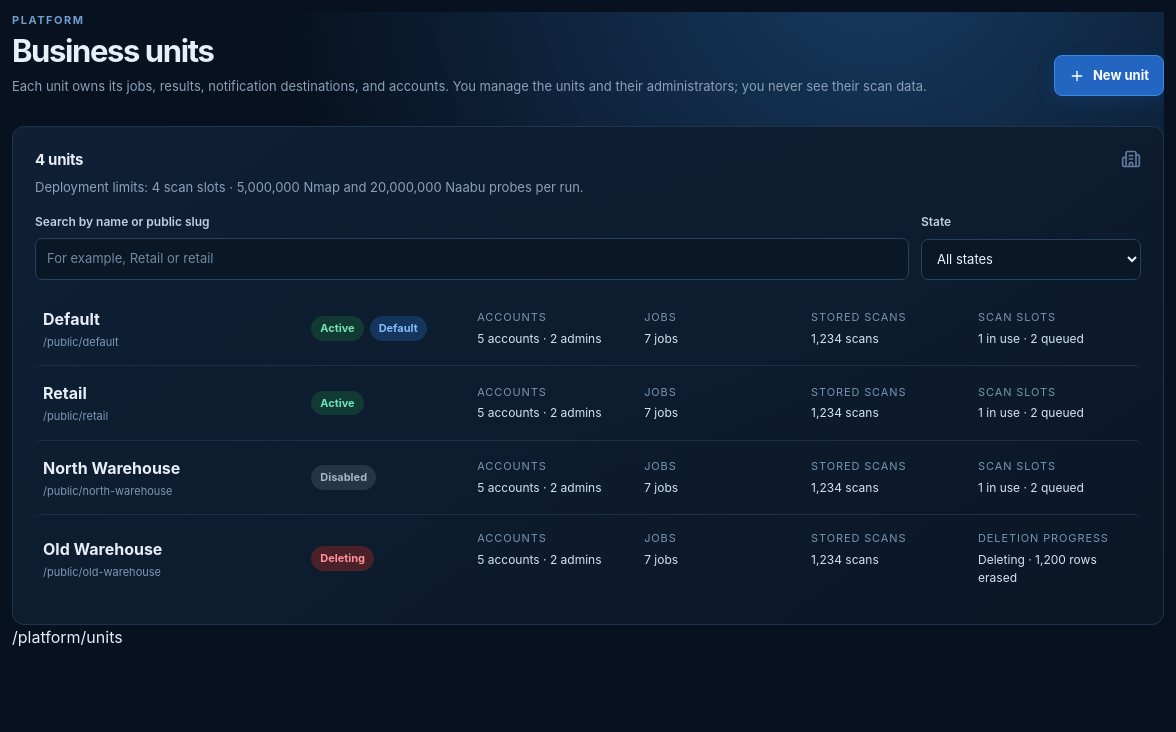
Test: business unit list › filters units by name or slug and by lifecycle state
The width and height of the screenshot is (1176, 732).
Type "NORTH-WAREHOUSE" into the search field labelled "Search by name or public slug" at (472, 259), box [35,238,909,280]
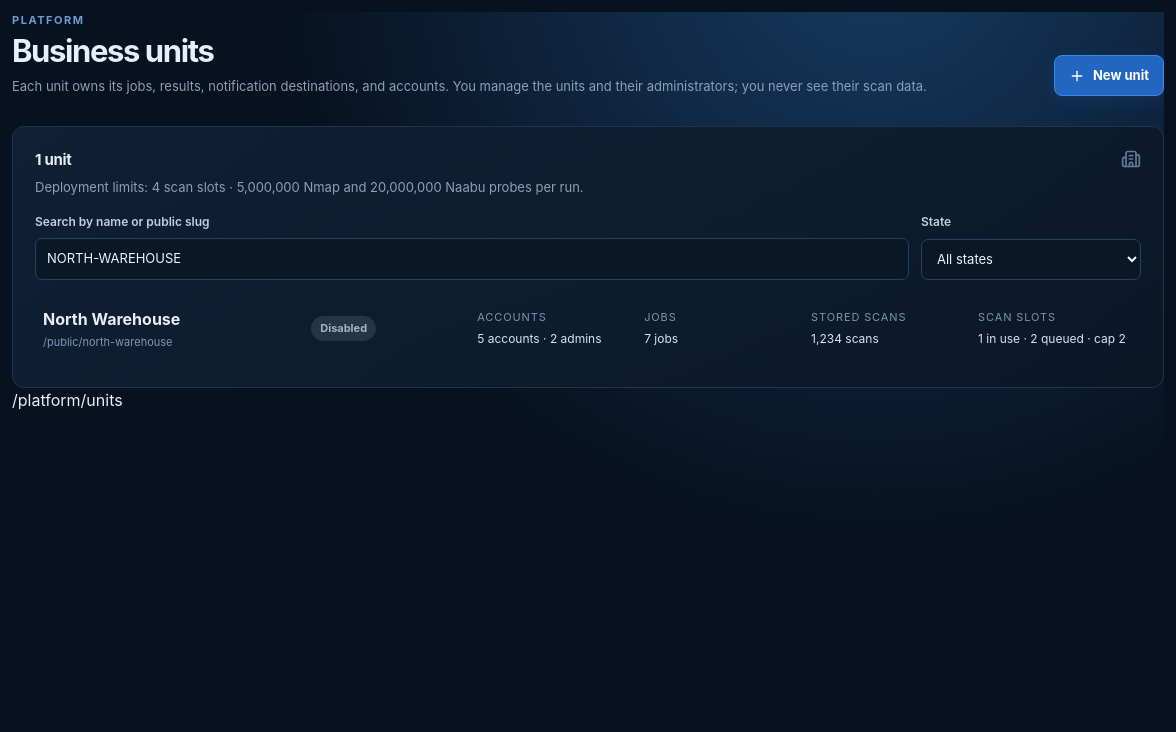
Result: the link "Retail" is gone
Clear the search field labelled "Search by name or public slug" at (472, 259), box [35,238,909,280]
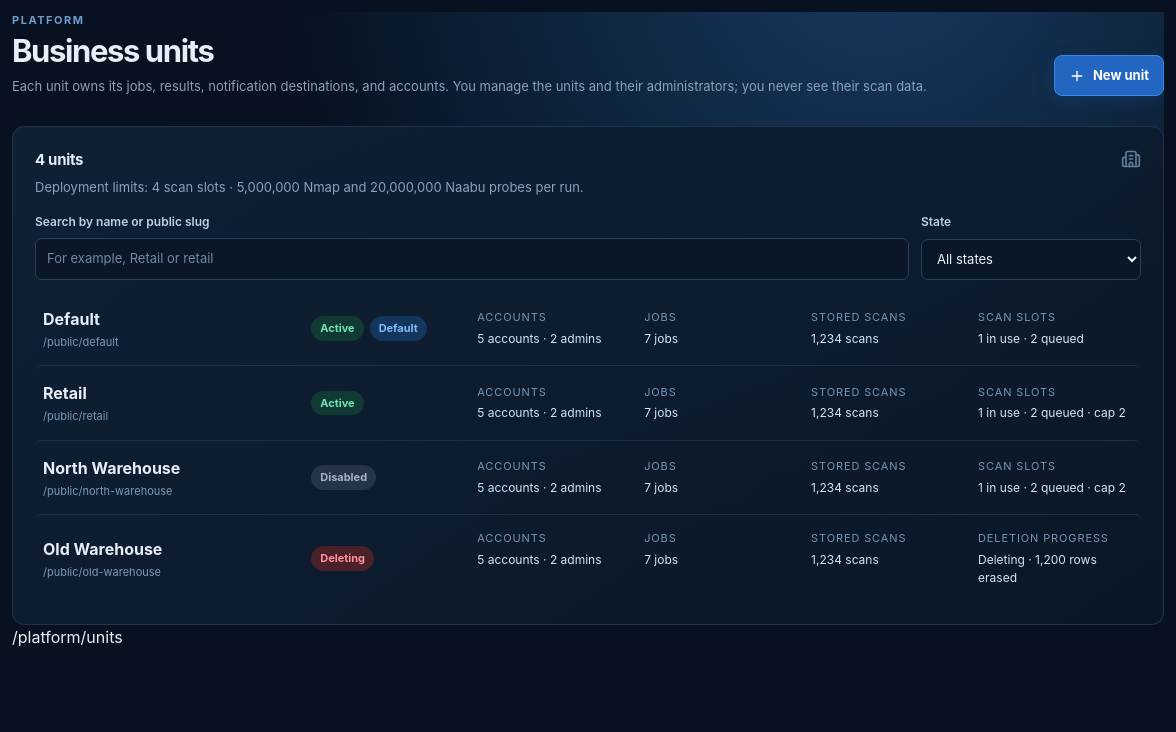
Select "Disabled" in the dropdown labelled "State" at (1031, 259), box [921,239,1141,280]
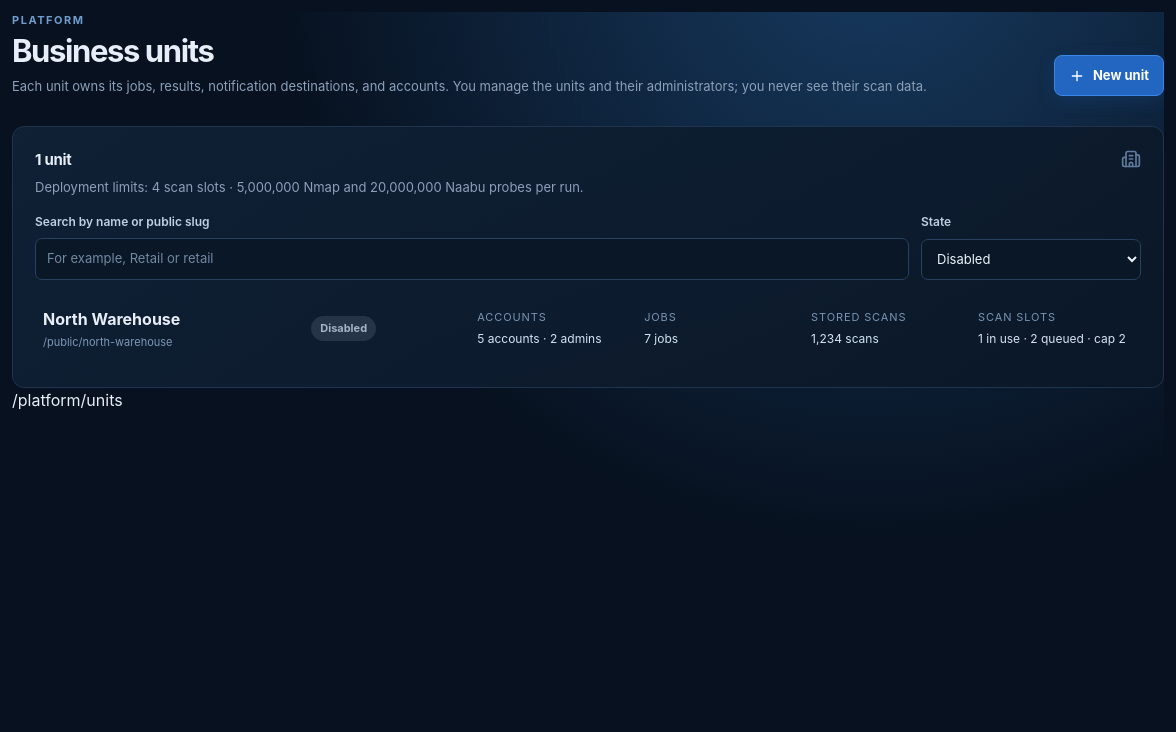
Expected: the link "North Warehouse" is shown, [42,308,1126,350]
Result: the link "Old Warehouse" is gone
Select "Deleting" in the dropdown labelled "State" at (1031, 259), box [921,239,1141,280]
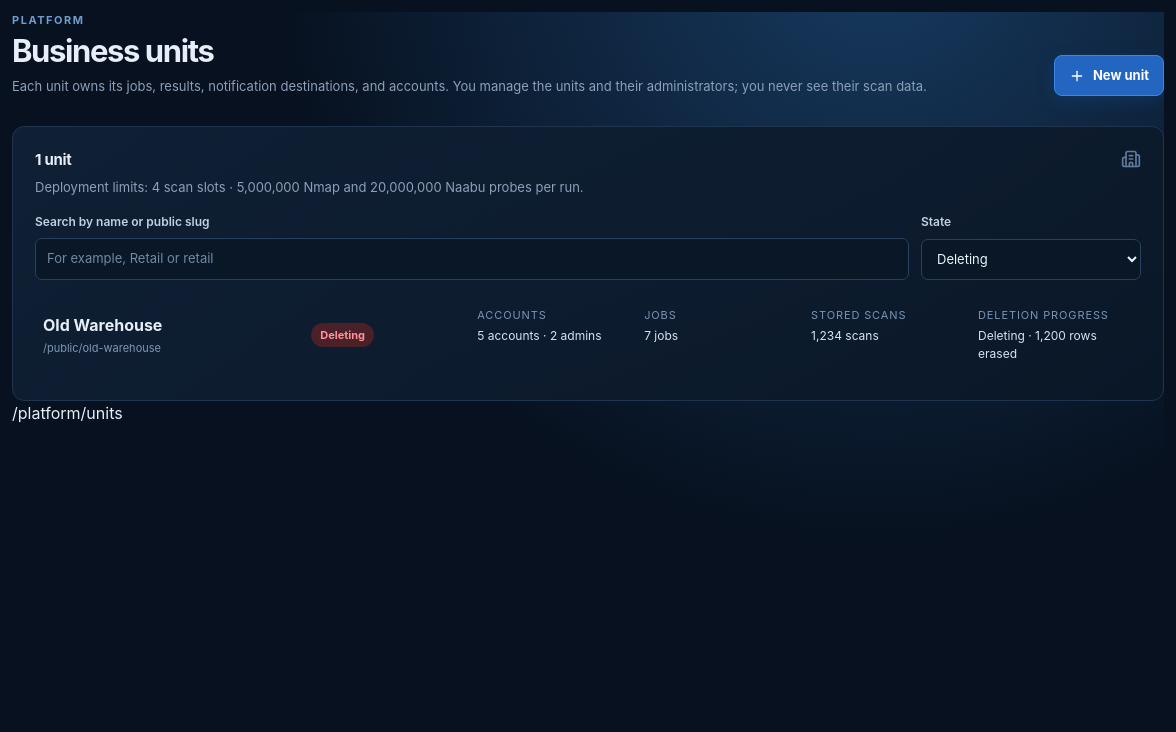
Result: the link "Old Warehouse" is shown at [35,292,1141,378]
Result: the link "North Warehouse" is gone
Type "does-not-exist" into the search field labelled "Search by name or public slug" at (472, 259), box [35,238,909,280]
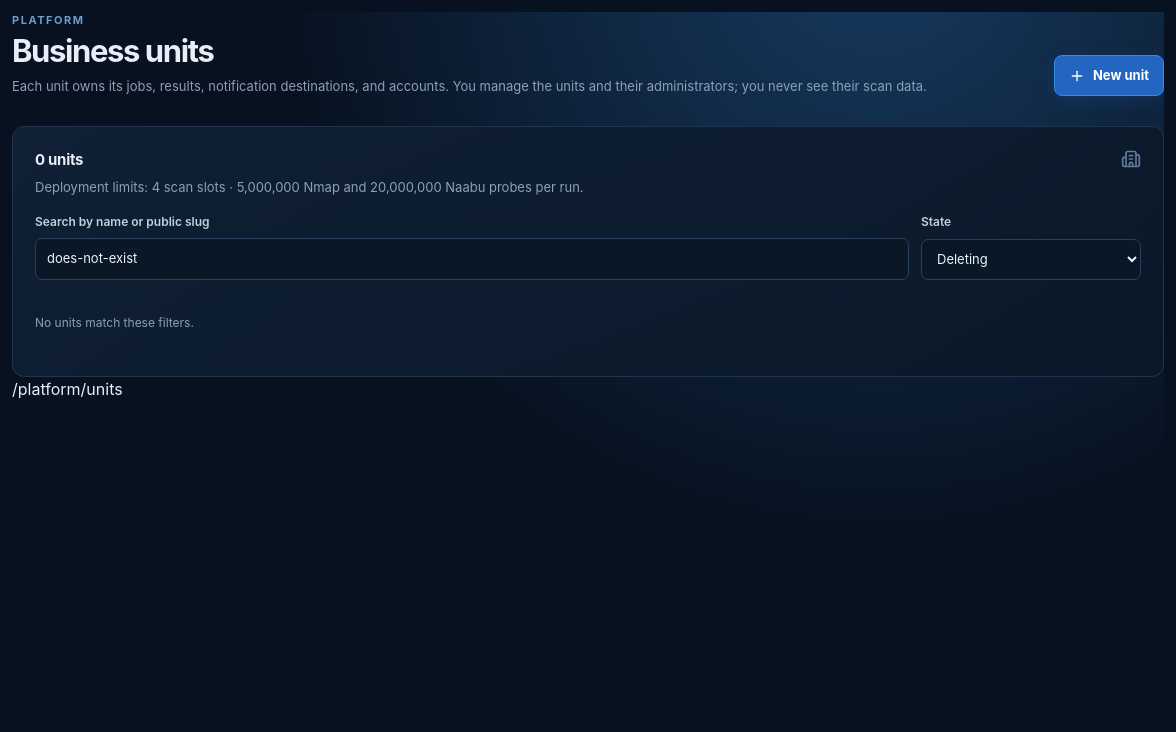
Result: the text "No units match these filters." is shown at [35,314,194,330]
